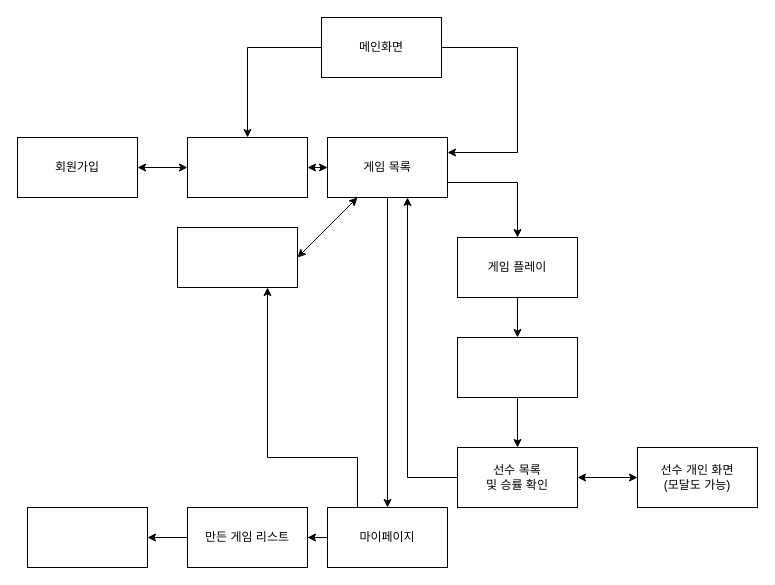
Some shapes in this 775 by 585 pixel diagram are drawn without their labels. Each missing label, with the centre of its shape:
"게임 만들기" belongs at point 237,257.
"게임 수정" belongs at point 87,537.
"로그인" belongs at point 247,167.
"우승화면" belongs at point 517,367.
